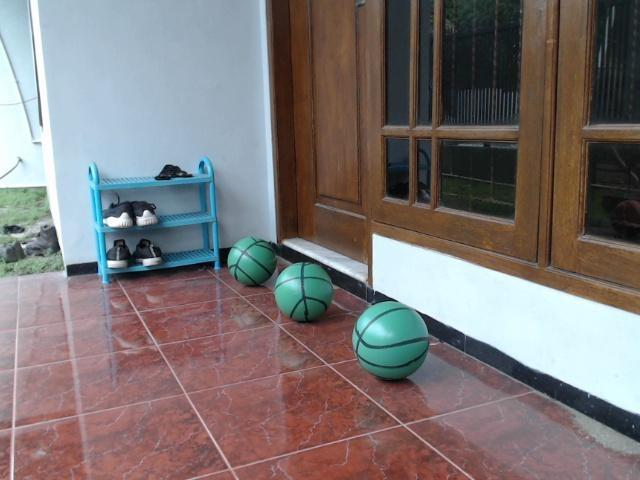Sports-Ball: (350, 302, 435, 378), (275, 259, 336, 327), (225, 237, 273, 287)
